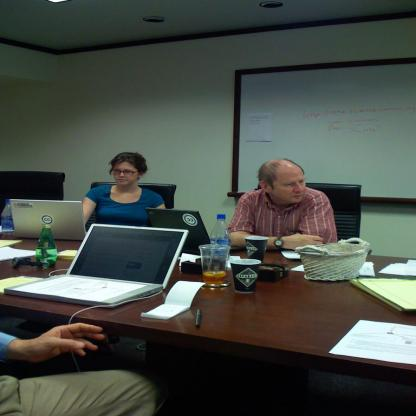board: (12, 227, 182, 315), (145, 209, 244, 256), (10, 200, 87, 240), (199, 243, 230, 285), (229, 257, 261, 294), (35, 225, 58, 270), (210, 213, 231, 255), (245, 236, 268, 264), (0, 200, 16, 238)
